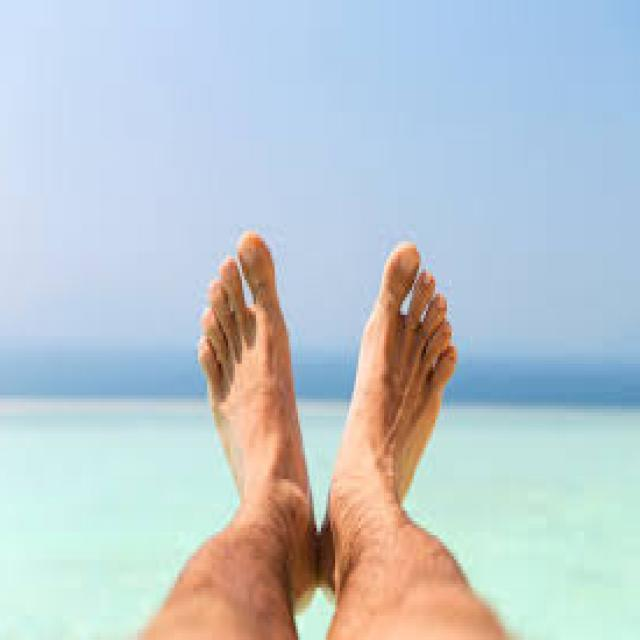No_Shoes: (325, 220, 498, 590), (194, 205, 304, 595)
